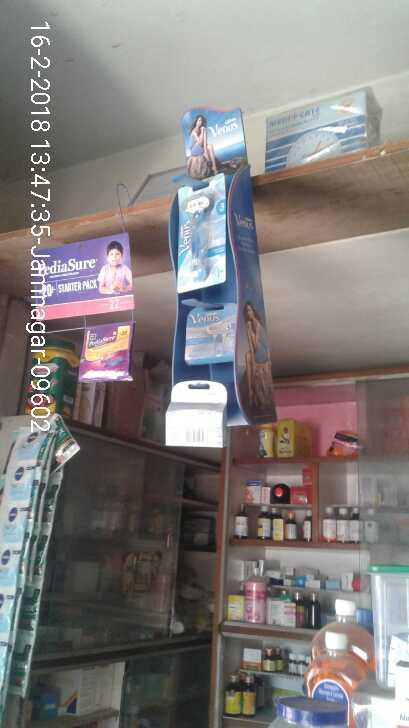venus: (176, 184, 222, 292), (186, 304, 242, 357)
